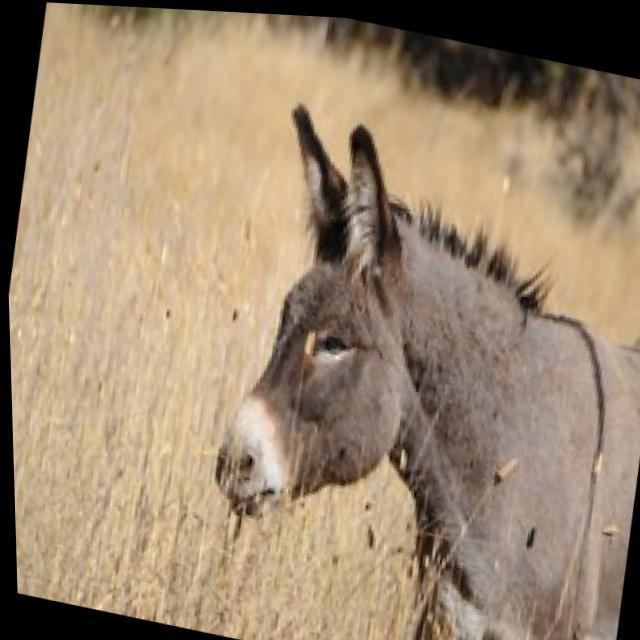Donkey: (179, 86, 640, 640)
